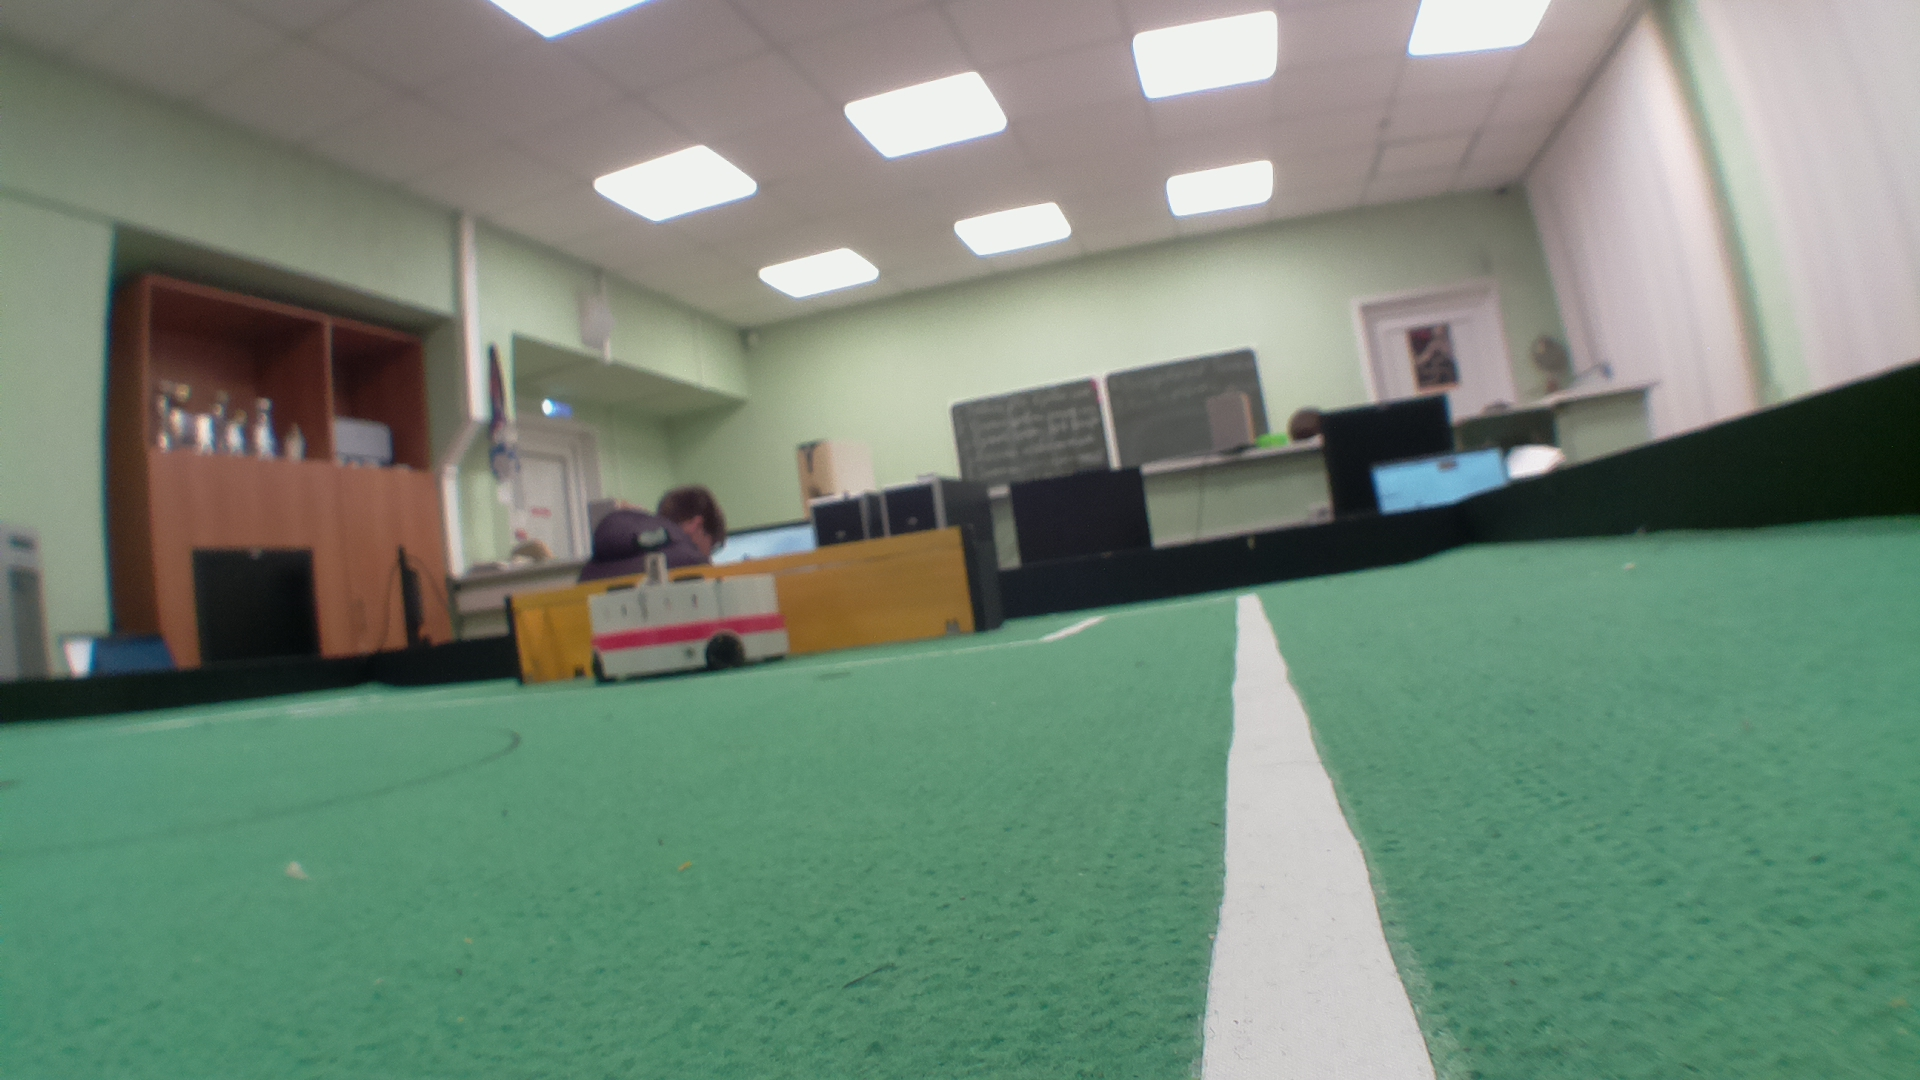YellowGoal: (513, 530, 973, 684)
